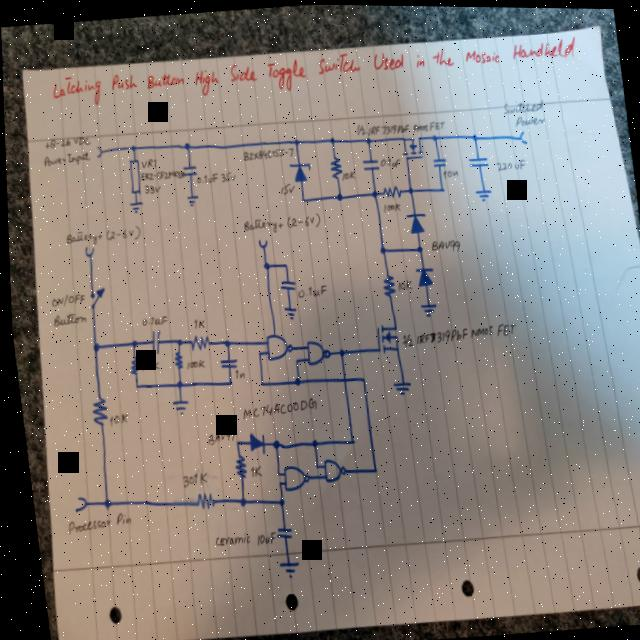capacitor: (465, 152, 488, 169), (146, 328, 159, 355), (359, 155, 379, 171), (271, 523, 289, 540), (276, 277, 295, 291), (216, 356, 235, 370), (428, 154, 446, 167), (180, 164, 197, 177)
crossover: (337, 373, 346, 384)
diode: (287, 159, 311, 183), (243, 429, 264, 456), (403, 210, 426, 234), (411, 263, 434, 287)
ground: (273, 558, 297, 579), (166, 396, 187, 416), (388, 377, 409, 396), (472, 184, 492, 203), (416, 299, 437, 317), (281, 303, 296, 320), (184, 193, 199, 208), (127, 200, 143, 213)
junction: (97, 495, 109, 511), (268, 437, 278, 450), (88, 340, 98, 353), (259, 258, 269, 270), (234, 494, 243, 507), (412, 242, 422, 253), (368, 187, 378, 198), (355, 372, 365, 383), (469, 129, 478, 141), (376, 243, 385, 255), (334, 345, 343, 357), (306, 436, 315, 448), (333, 190, 342, 201), (181, 140, 190, 151), (290, 375, 299, 386), (220, 337, 229, 348), (171, 378, 180, 389), (273, 496, 282, 507), (367, 464, 376, 475), (291, 136, 300, 146), (127, 338, 135, 349), (172, 336, 180, 347), (327, 134, 335, 144), (405, 184, 413, 194), (128, 143, 136, 152), (279, 260, 287, 268), (255, 379, 263, 387), (308, 460, 316, 468), (363, 135, 371, 143), (430, 132, 437, 141), (437, 184, 444, 192), (298, 194, 305, 202), (130, 381, 137, 389), (224, 379, 231, 387), (253, 348, 260, 356), (290, 356, 297, 363), (345, 437, 352, 444), (273, 480, 279, 486), (272, 470, 277, 476), (231, 439, 236, 445)
resistor: (86, 395, 107, 426), (126, 157, 142, 192), (190, 489, 213, 511), (378, 272, 395, 297), (229, 453, 245, 479), (186, 332, 207, 351), (326, 155, 342, 178), (380, 183, 401, 199), (125, 354, 138, 375), (169, 350, 182, 369)
source: (254, 235, 267, 250), (82, 244, 94, 258)
switch: (85, 286, 105, 310)
terminal: (67, 494, 85, 513), (517, 128, 527, 144), (93, 144, 103, 159)
text: (45, 24, 583, 116), (396, 319, 515, 348), (237, 393, 315, 419), (353, 116, 446, 137), (62, 509, 128, 535), (41, 147, 91, 168), (240, 144, 296, 162), (41, 133, 90, 153), (240, 213, 282, 235), (500, 96, 543, 115), (62, 226, 101, 246), (102, 223, 140, 243), (209, 530, 249, 548), (138, 167, 184, 182), (284, 210, 320, 229), (49, 309, 84, 327), (47, 290, 82, 308), (294, 281, 326, 299), (202, 427, 233, 445), (428, 235, 459, 252), (493, 156, 525, 172), (177, 469, 205, 487), (511, 111, 544, 126), (249, 529, 273, 546), (138, 312, 166, 326), (104, 411, 126, 426), (377, 154, 400, 168), (194, 171, 217, 184), (380, 199, 401, 212), (137, 156, 157, 169), (182, 357, 203, 369), (140, 182, 160, 194), (137, 359, 157, 371), (394, 277, 411, 291), (277, 181, 294, 195), (338, 167, 355, 180), (440, 166, 458, 178), (218, 170, 235, 182), (245, 463, 259, 476), (190, 317, 203, 329), (231, 368, 242, 379)
transistor: (372, 321, 398, 353), (398, 134, 423, 160)
